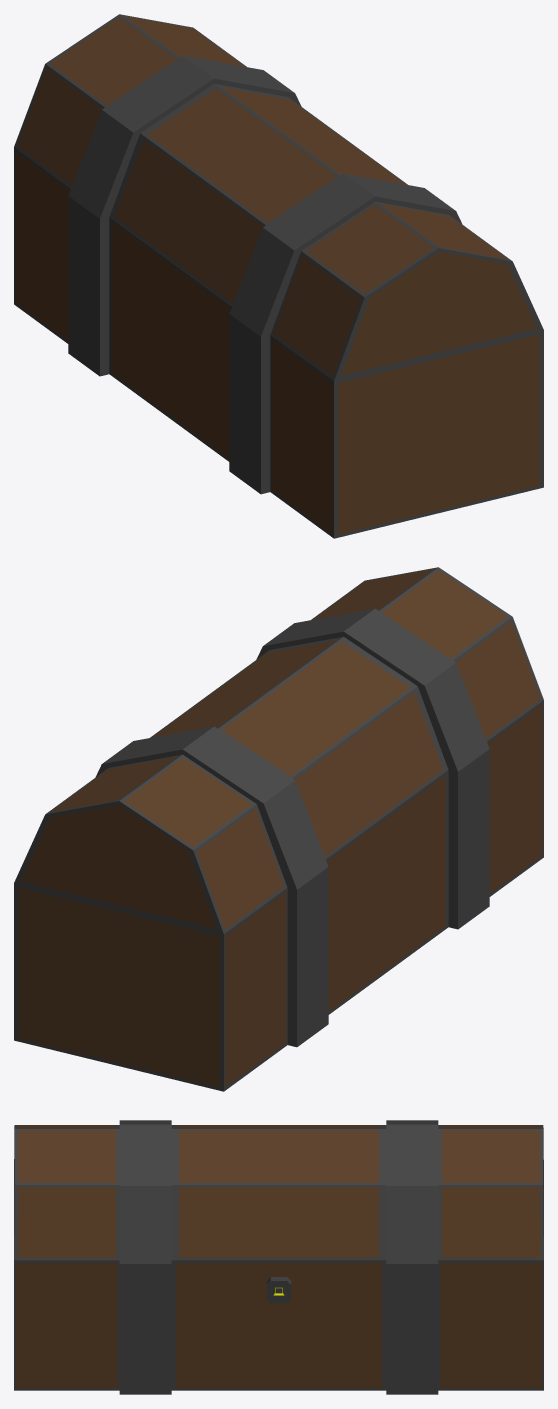
File: Chest3.fbx
The picture shows the model from 3 angles, top to bottom: view 1: azimuth 30°, elevation 25°; view 2: azimuth 150°, elevation 25°; view 3: azimuth 270°, elevation 25°; orthographic projection. The views are drawn at different scales.
Visible parts, largest first — view 1: Top, Base; view 2: Top, Base; view 3: Top, Base.
Part boxes in pixels (box(x1,y1,x2,y2)): Top: box(14, 14, 543, 381); Base: box(14, 147, 543, 538); Top: box(14, 567, 543, 934); Base: box(14, 700, 543, 1091); Top: box(14, 1120, 543, 1263); Base: box(14, 1260, 543, 1394).
Size of the model in its own units: 124 by 139 by 300.
